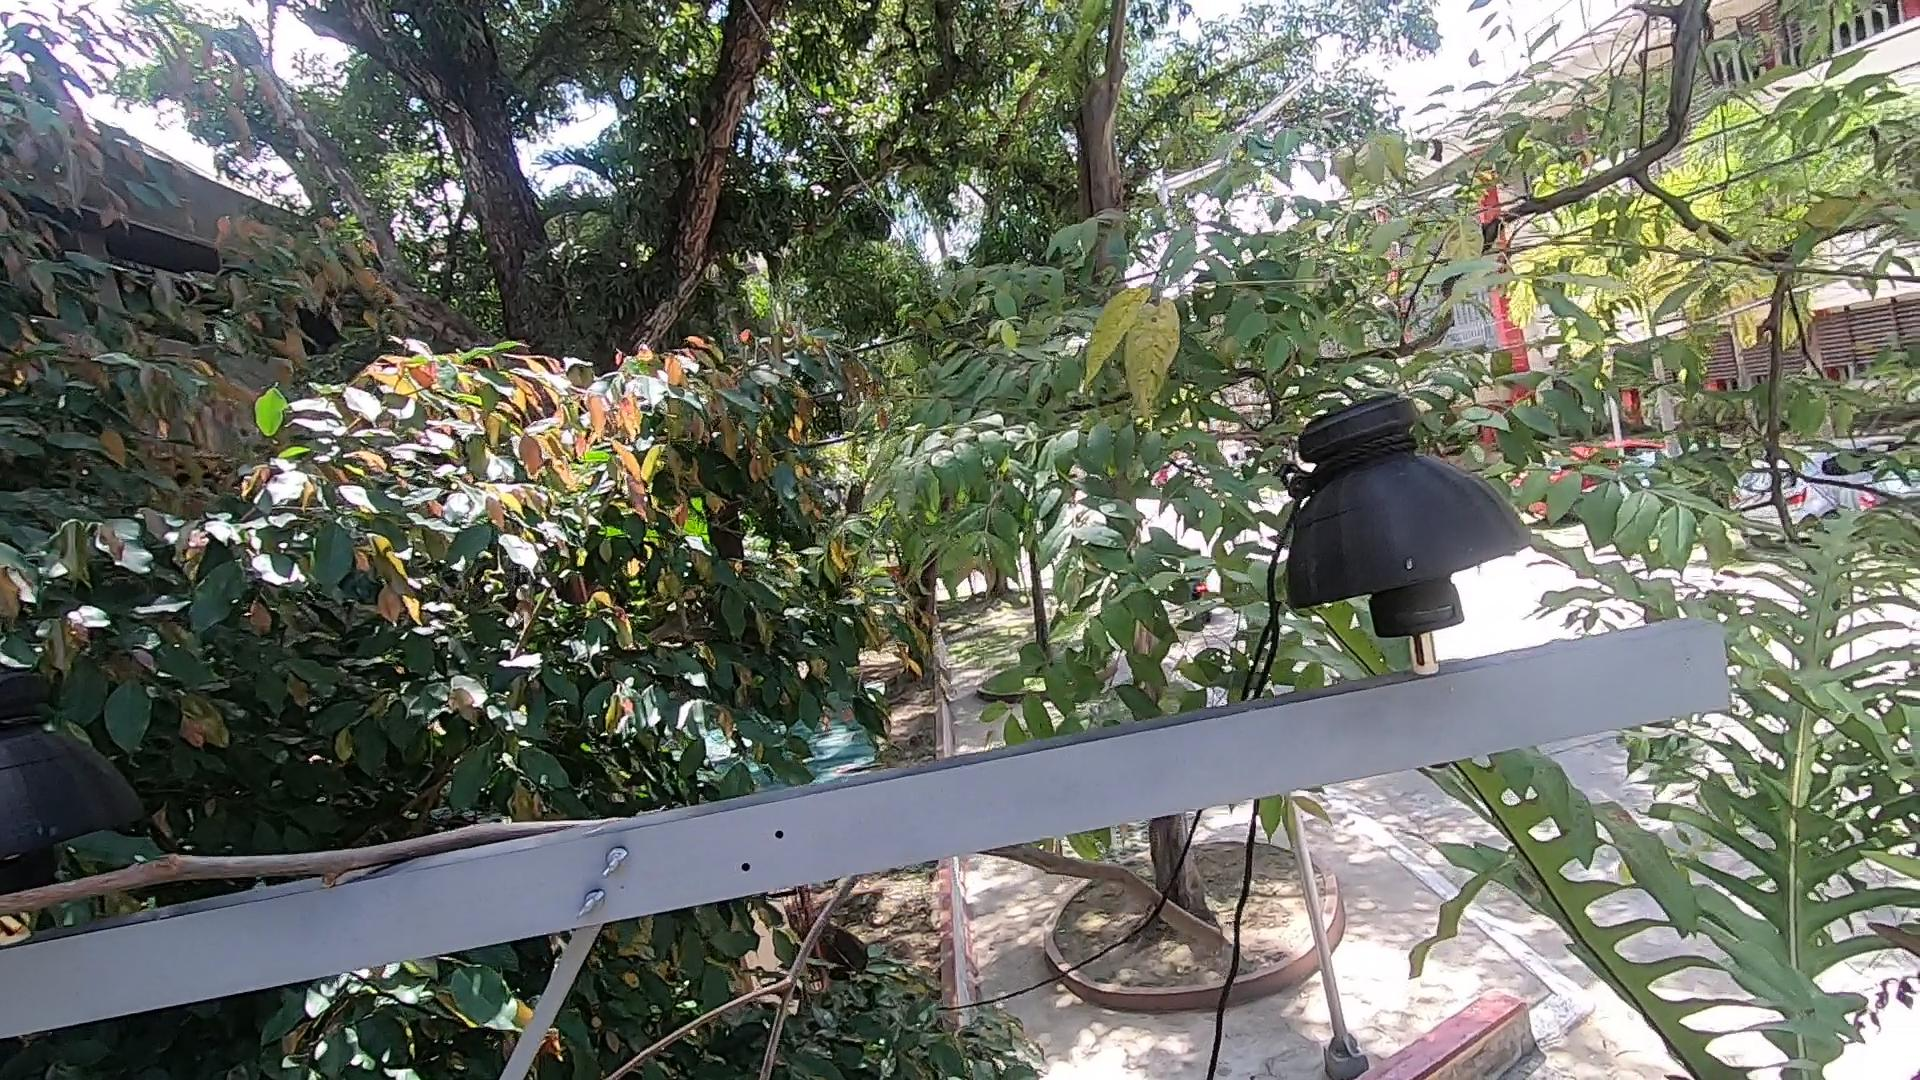tree branch: (1, 800, 597, 935), (601, 874, 866, 1075), (975, 843, 1236, 955)
